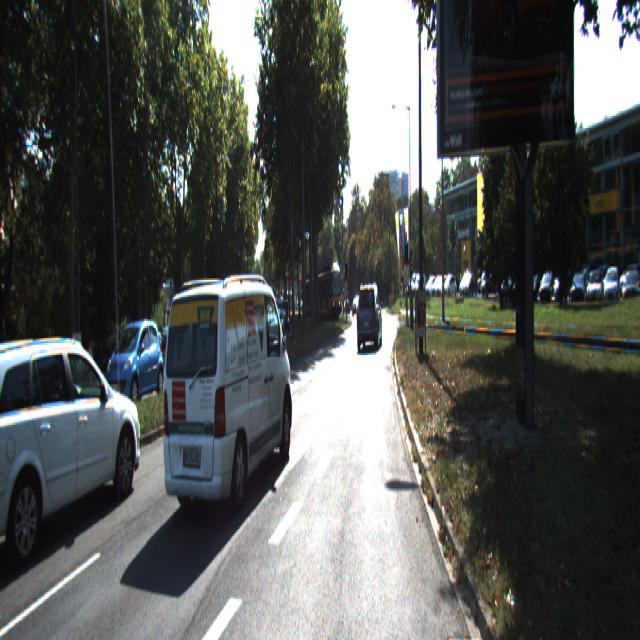Car: (0, 317, 144, 570), (162, 262, 296, 520), (104, 318, 166, 412), (308, 267, 342, 322), (218, 309, 252, 362), (357, 282, 382, 352)
